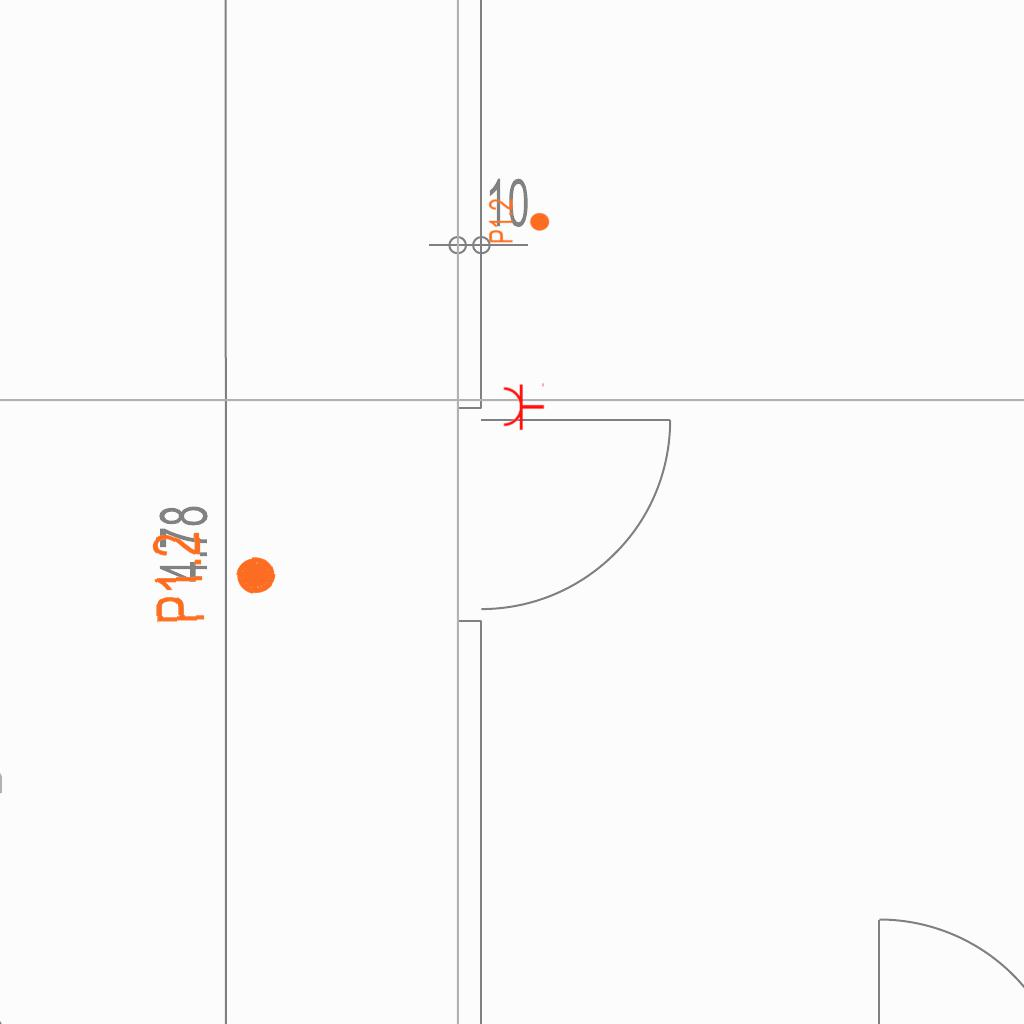Downlight_LED_Einbauleuchten_Flur: (148, 526, 281, 626), (487, 198, 551, 244)
Schukosteckdose_einfach: (502, 381, 545, 431)
